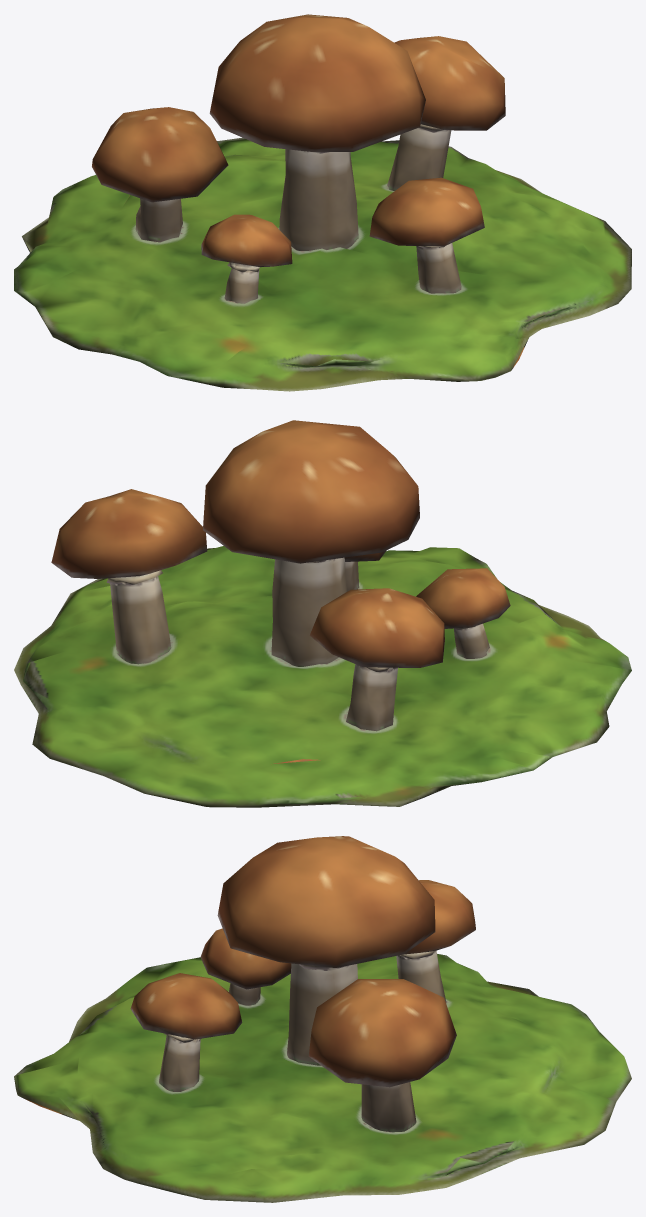
File: mushrooms.glb
The picture shows the model from 3 angles, top to bottom: view 1: azimuth 30°, elevation 25°; view 2: azimuth 150°, elevation 25°; view 3: azimuth 270°, elevation 25°; orthographic projection. The views are drawn at different scales.
Visible parts, largest first — view 1: mushrooms; view 2: mushrooms; view 3: mushrooms.
Boxes of the visible parts, x1,y1,x2,y2 form: mushrooms: [14, 14, 631, 391]; mushrooms: [14, 420, 631, 807]; mushrooms: [14, 836, 631, 1202].
Size of the model in its own units: 1.29 by 0.5587 by 1.33.
1 material, 1 textured.
